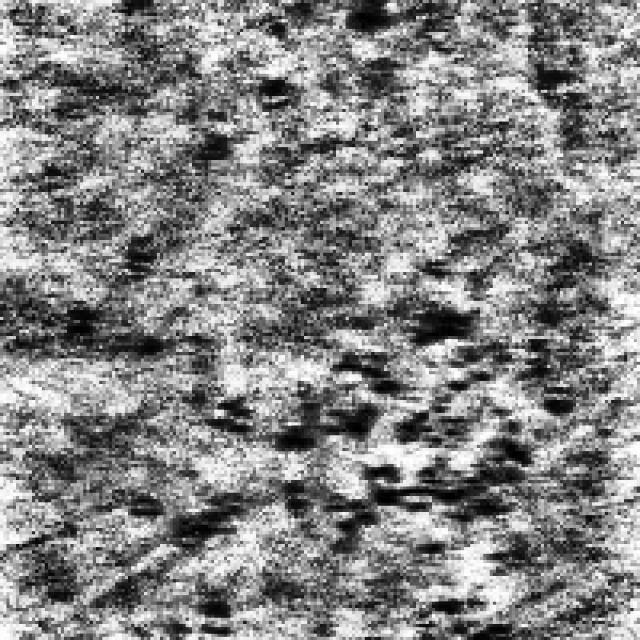Crazing: (160, 282, 570, 634)
